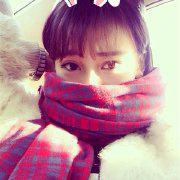WRONG: (58, 45, 135, 118)
